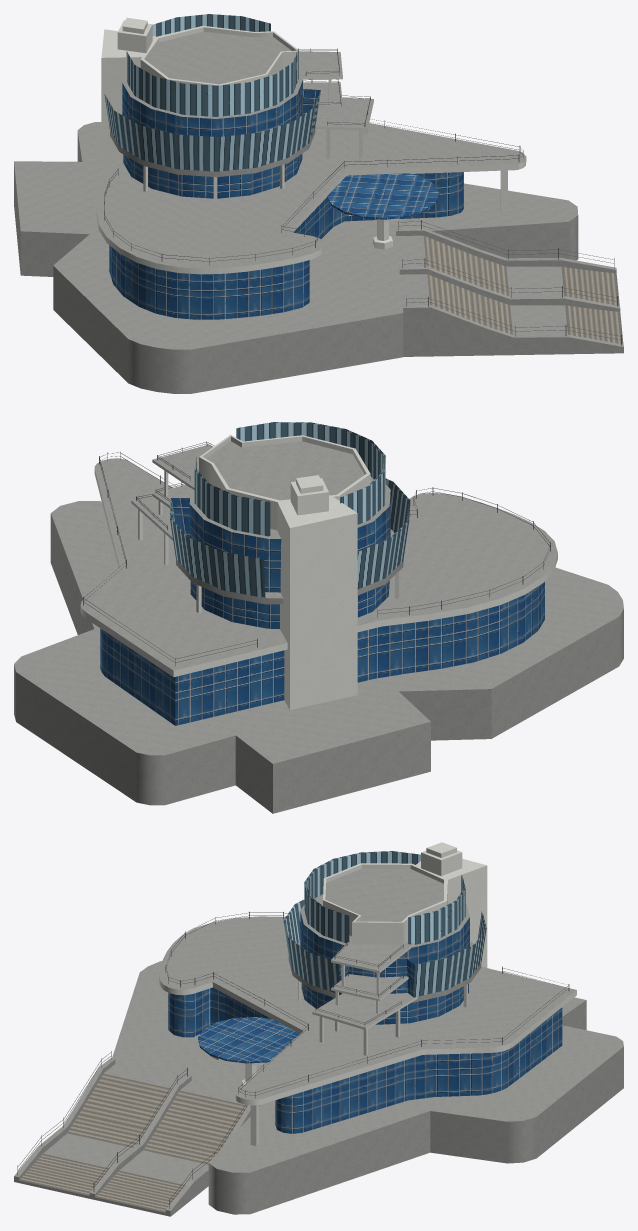
File: Canada_track_landmark_06.dae
The picture shows the model from 3 angles, top to bottom: view 1: azimuth 30°, elevation 25°; view 2: azimuth 150°, elevation 25°; view 3: azimuth 270°, elevation 25°; orthographic projection. The views are drawn at different scales.
Parts seen in each view (by area): view 1: Canada_track_landmark_06; view 2: Canada_track_landmark_06; view 3: Canada_track_landmark_06.
Boxes of the visible parts, x1,y1,x2,y2 form: Canada_track_landmark_06: (14, 14, 623, 393); Canada_track_landmark_06: (14, 422, 623, 813); Canada_track_landmark_06: (14, 842, 623, 1216).
Bounding box in the file's own units: 15.38 × 18.06 × 7.
Materials: 5 (5 with a texture image).
